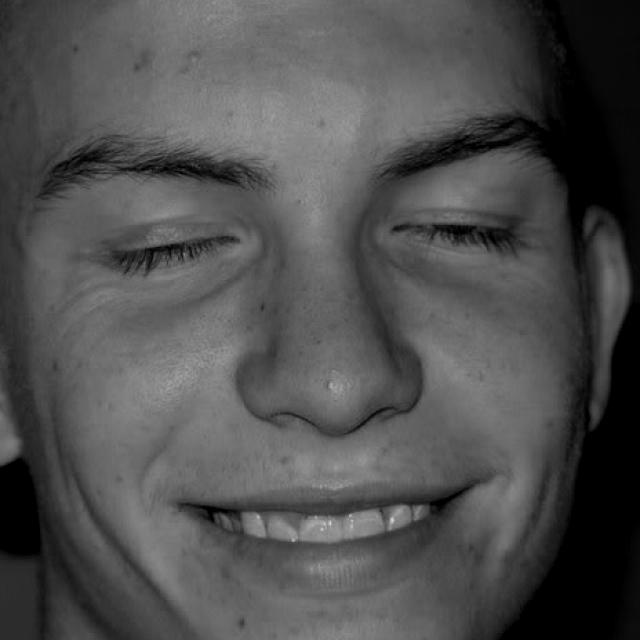real: (22, 86, 603, 632), (82, 171, 534, 315)
